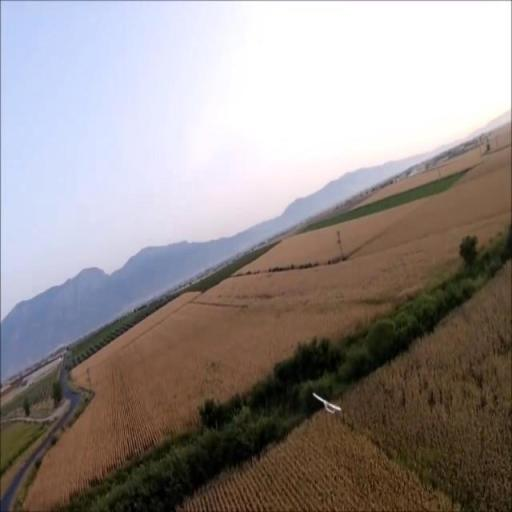uav: (313, 388, 342, 416)
